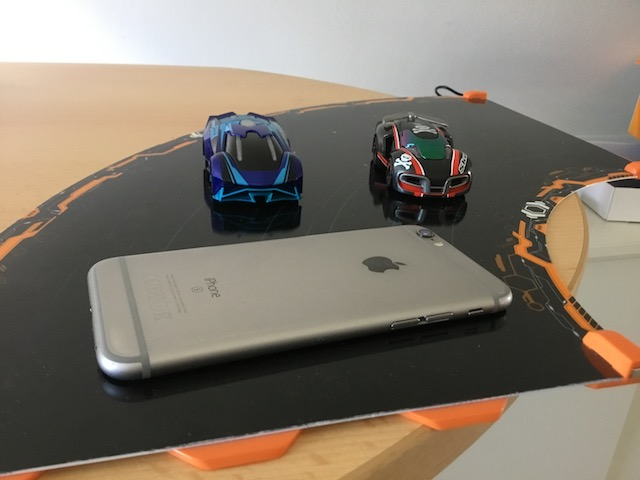car-blue: (195, 109, 306, 214)
car-red: (370, 111, 476, 202)
phone: (83, 218, 517, 387)
